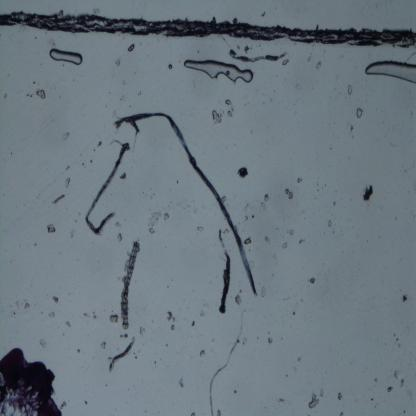Air bubble: (180, 58, 256, 85), (364, 59, 416, 86), (50, 47, 83, 67), (128, 42, 136, 52)
Background material: (122, 236, 140, 330), (212, 99, 234, 123), (146, 209, 162, 236), (166, 309, 178, 333), (362, 184, 373, 206), (235, 164, 249, 179), (51, 193, 66, 206), (80, 311, 99, 321), (308, 393, 320, 408), (35, 89, 47, 102), (284, 187, 294, 202), (235, 294, 244, 310), (346, 121, 354, 139), (260, 193, 268, 211), (46, 224, 58, 235), (244, 235, 254, 247), (260, 286, 270, 297), (117, 170, 127, 181), (60, 130, 69, 142), (62, 319, 74, 328), (109, 315, 119, 325), (40, 338, 49, 349), (21, 302, 33, 310), (264, 334, 274, 343), (51, 295, 60, 305), (287, 229, 298, 237), (177, 376, 184, 388), (65, 178, 72, 190), (296, 176, 303, 188), (401, 293, 408, 305), (113, 57, 122, 66), (136, 328, 146, 336), (315, 60, 323, 70), (306, 54, 314, 63), (394, 368, 400, 380), (200, 348, 206, 360), (347, 85, 353, 97), (164, 213, 171, 223), (221, 196, 228, 206), (167, 62, 174, 72), (281, 240, 288, 250), (357, 108, 363, 119), (69, 231, 77, 239), (405, 388, 412, 397), (48, 310, 57, 317), (264, 235, 271, 243), (387, 386, 394, 394), (120, 93, 126, 102), (310, 276, 316, 285), (100, 340, 106, 349), (327, 218, 332, 228), (339, 392, 344, 402), (400, 378, 405, 388), (198, 224, 204, 232), (119, 233, 124, 242), (119, 333, 130, 337), (174, 180, 181, 186), (64, 164, 70, 171), (244, 213, 249, 221), (83, 398, 88, 406), (298, 240, 306, 245), (116, 221, 120, 231), (121, 78, 127, 84), (81, 160, 86, 167), (249, 213, 254, 219), (189, 411, 195, 416), (73, 218, 78, 224), (90, 158, 94, 165), (374, 376, 378, 382), (77, 346, 80, 354), (190, 322, 196, 326), (395, 337, 399, 342), (398, 343, 402, 348), (100, 140, 102, 146), (371, 398, 374, 402), (393, 333, 396, 337)
Cellulose filter fibre: (206, 311, 249, 414), (86, 138, 127, 238), (209, 229, 232, 316), (108, 334, 136, 374), (228, 48, 289, 62)
Cotton: (111, 112, 260, 300)
Edge of slide: (0, 1, 416, 48)
Pen: (0, 346, 63, 416)
